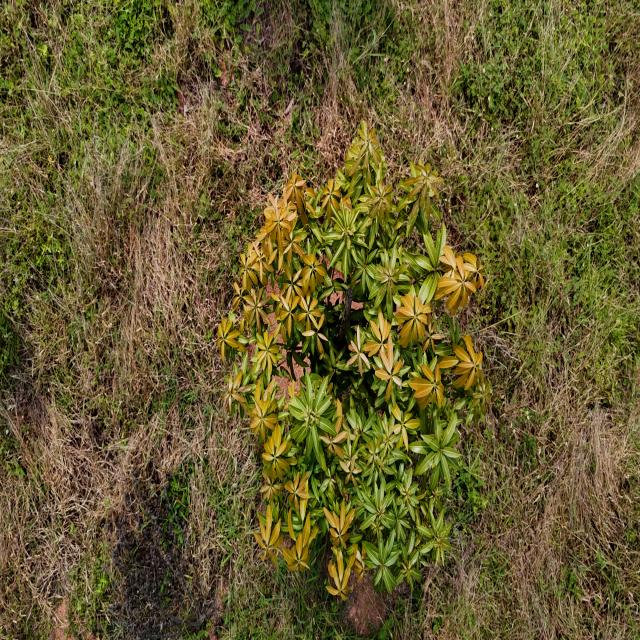mangoTree: (216, 115, 494, 606)
